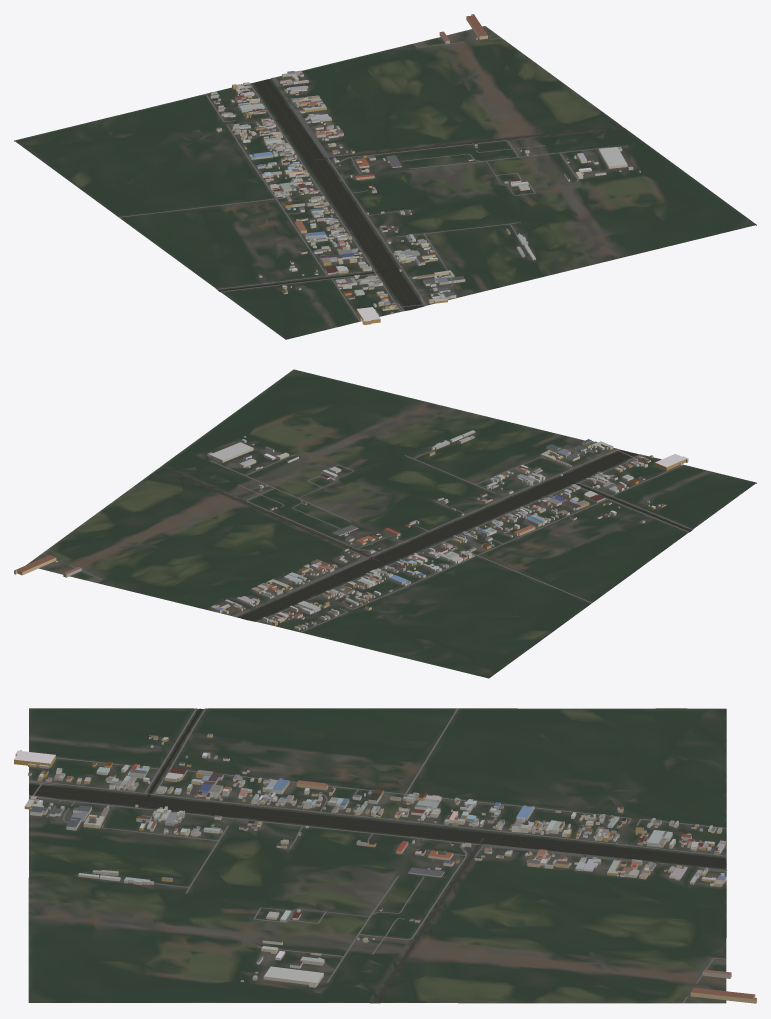
3 renders of one model, top to bottom at view 1: azimuth 30°, elevation 25°; view 2: azimuth 150°, elevation 25°; view 3: azimuth 270°, elevation 25°, orthographic. The views are drawn at different scales.
Visible parts, largest first — view 1: ground, buildings, water, roads; view 2: ground, buildings, water, roads; view 3: ground, buildings, water, roads.
Part boxes in pixels (box(x1,y1,x2,y2)): ground: box(14, 26, 756, 339); buildings: box(210, 14, 640, 324); water: box(219, 79, 621, 310); roads: box(118, 38, 607, 321); ground: box(26, 369, 756, 678); buildings: box(14, 430, 688, 630); water: box(160, 450, 691, 620); roads: box(42, 449, 692, 632); ground: box(28, 708, 726, 1003); buildings: box(14, 733, 756, 1003); water: box(29, 708, 726, 1003); roads: box(29, 708, 726, 1003).
Bounding box in the file's own units: 1402 × 18.4 × 1491.
